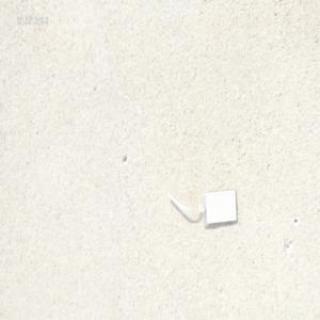LuggageTagtrack_idkeyframe: (162, 182, 237, 226)
